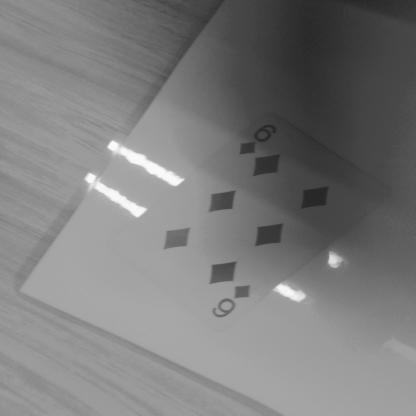6D: (226, 118, 290, 170), (206, 276, 266, 324)
